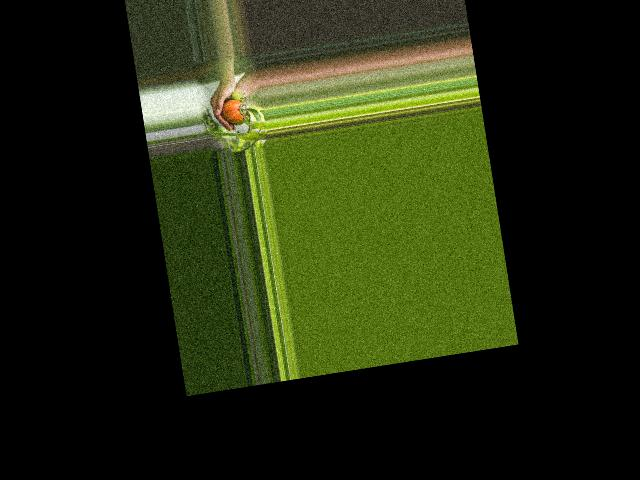tomato: (220, 98, 246, 124)
